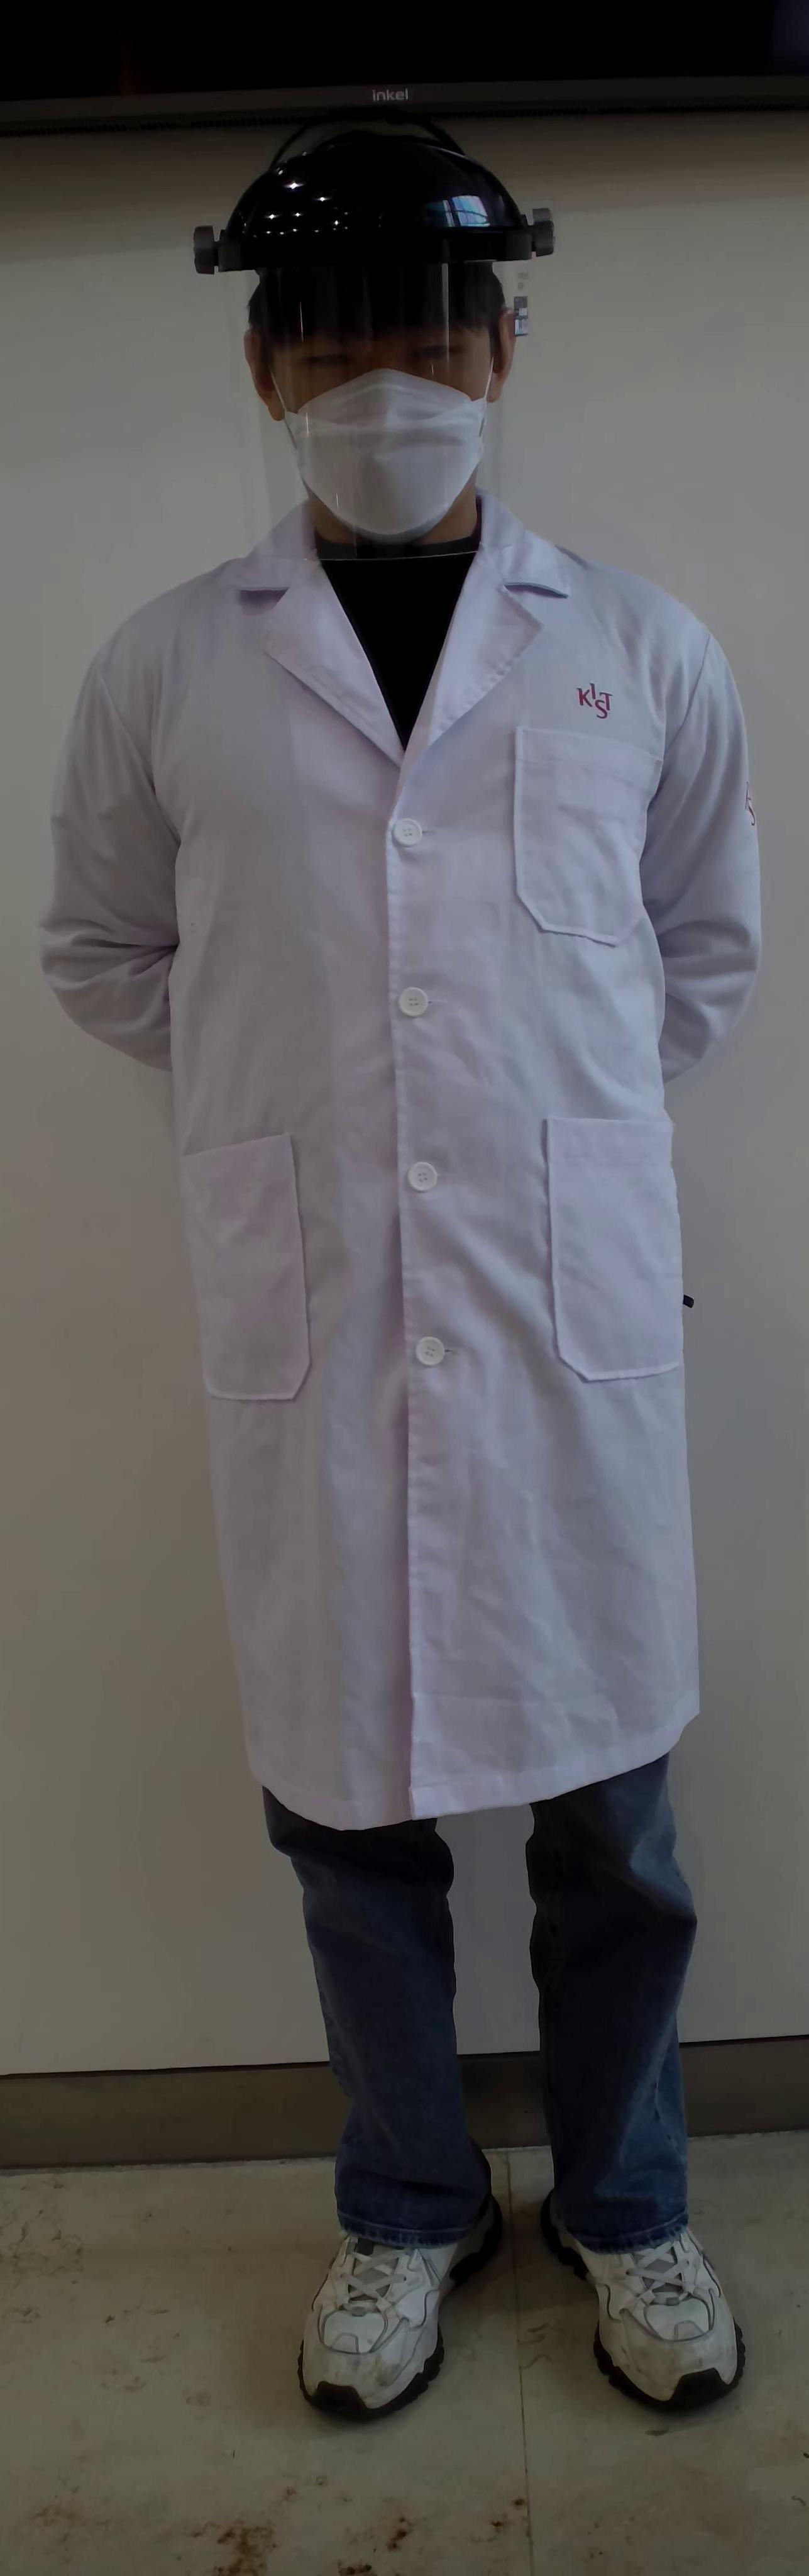lab_coat: (53, 555, 789, 1796)
